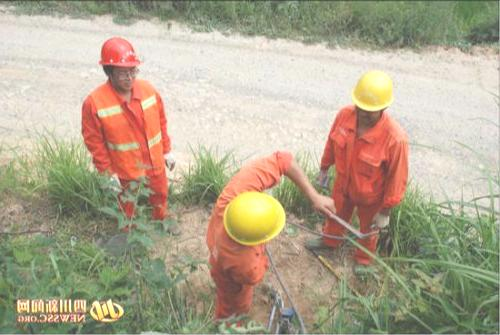person: (315, 68, 411, 259), (209, 151, 312, 328), (80, 37, 171, 230)
